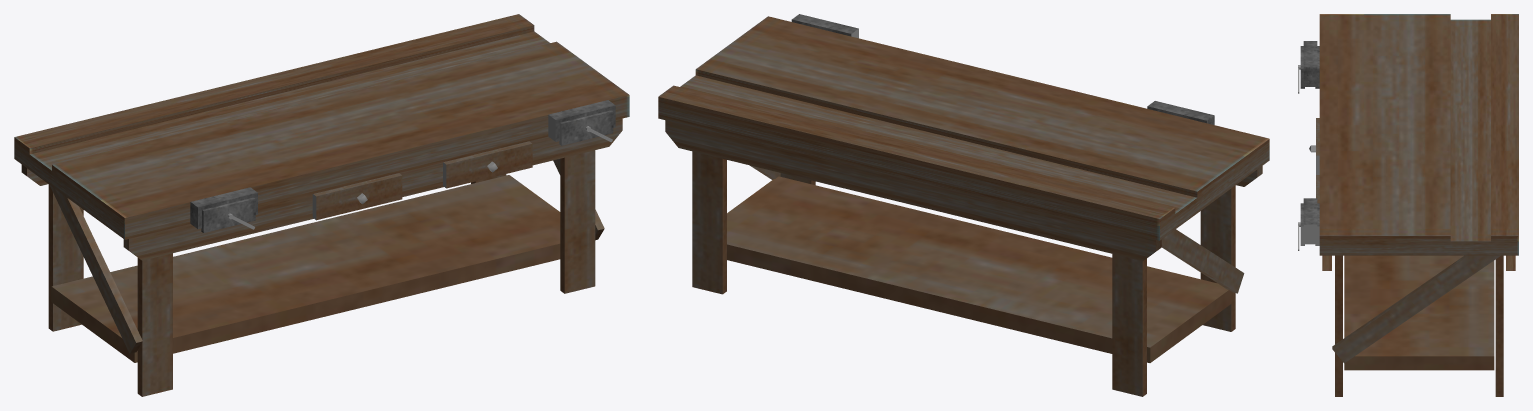
File: Workbench 1.fbx
3 renders of one model, left to right at view 1: azimuth 30°, elevation 25°; view 2: azimuth 150°, elevation 25°; view 3: azimuth 270°, elevation 25°, orthographic. The views are drawn at different scales.
Visible parts, largest first — view 1: pCube113, pCube116, pCube117, pCube114, pCube119, pCube118, pCube121, pCube124, pCylinder5, pCylinder6; view 2: pCube113, pCube116, pCube115, pCube118, pCube117, pCube119, pCylinder5, pCylinder6; view 3: pCube113, pCube116, pCube120, pCube118, pCube117, pCylinder6, pCylinder5, pCube121.
Boxes of the visible parts, <box> form: pCube113: <box>14,14,629,239</box>; pCube116: <box>51,175,560,362</box>; pCube117: <box>137,150,595,396</box>; pCube114: <box>123,118,622,260</box>; pCube119: <box>49,185,142,353</box>; pCube118: <box>48,174,506,331</box>; pCube121: <box>312,173,402,220</box>; pCube124: <box>443,141,532,188</box>; pCylinder5: <box>190,187,257,232</box>; pCylinder6: <box>548,100,615,145</box>; pCube113: <box>658,16,1269,240</box>; pCube116: <box>727,176,1232,362</box>; pCube115: <box>665,120,1161,261</box>; pCube118: <box>692,151,1146,396</box>; pCube117: <box>780,173,1235,331</box>; pCube119: <box>1161,229,1244,293</box>; pCylinder5: <box>1147,101,1214,124</box>; pCylinder6: <box>791,14,858,38</box>; pCube113: <box>1319,14,1518,255</box>; pCube116: <box>1344,255,1494,370</box>; pCube120: <box>1332,255,1500,363</box>; pCube118: <box>1495,255,1503,396</box>; pCube117: <box>1335,255,1342,396</box>; pCylinder6: <box>1298,198,1319,250</box>; pCylinder5: <box>1298,41,1319,93</box>; pCube121: <box>1316,118,1319,174</box>.
Size of the model in its own units: 258 by 94.28 by 109.
